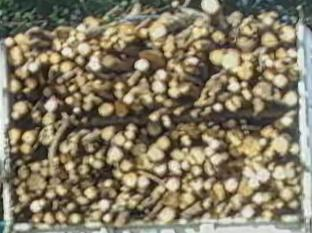medium: (253, 80, 277, 100), (240, 136, 261, 157), (222, 49, 241, 71), (140, 50, 165, 65), (238, 61, 256, 80), (39, 124, 54, 146), (150, 23, 168, 40), (190, 147, 206, 164), (238, 37, 257, 51), (201, 0, 221, 13), (22, 128, 38, 144), (179, 193, 195, 209), (149, 145, 166, 160), (163, 192, 180, 207), (274, 137, 288, 155), (213, 182, 226, 201), (164, 35, 175, 57), (98, 102, 114, 117), (28, 175, 44, 190), (280, 27, 297, 41), (263, 32, 280, 46), (278, 187, 293, 202), (7, 128, 21, 144), (157, 208, 174, 221), (122, 172, 136, 187), (240, 205, 255, 219), (134, 59, 150, 72), (109, 147, 123, 161), (229, 12, 243, 26), (13, 102, 28, 115), (168, 161, 183, 174), (168, 86, 182, 99), (152, 81, 167, 93), (115, 102, 127, 117), (224, 180, 237, 193), (113, 132, 125, 146), (156, 137, 170, 149), (171, 149, 185, 161), (42, 113, 55, 125), (102, 127, 114, 140), (43, 212, 55, 225), (133, 144, 146, 156), (167, 179, 180, 191), (257, 171, 269, 184), (31, 201, 45, 212), (44, 99, 56, 111), (137, 177, 149, 189), (60, 142, 73, 153), (103, 56, 116, 67), (149, 122, 160, 135), (155, 164, 166, 177), (61, 62, 75, 72), (68, 214, 82, 224), (78, 44, 90, 55), (89, 60, 101, 71), (84, 188, 96, 199), (56, 211, 67, 223), (155, 69, 167, 80), (120, 161, 132, 172), (18, 165, 28, 178), (25, 78, 37, 88), (62, 71, 75, 80), (32, 111, 41, 123), (51, 53, 61, 63), (75, 56, 85, 65), (57, 85, 66, 95), (43, 87, 51, 97), (54, 40, 61, 51), (123, 95, 131, 104), (63, 48, 71, 56), (77, 23, 86, 30), (77, 33, 85, 40)
small: (284, 92, 299, 107), (208, 49, 224, 63), (253, 99, 265, 115), (275, 73, 289, 86), (226, 97, 240, 110), (289, 143, 302, 156), (241, 90, 252, 103), (273, 167, 284, 180), (180, 135, 190, 149), (189, 108, 200, 120), (282, 116, 293, 128), (261, 126, 273, 137), (244, 168, 256, 179), (10, 80, 20, 93), (55, 186, 68, 196), (212, 32, 225, 42), (20, 144, 32, 154), (99, 199, 109, 211), (277, 47, 287, 59), (285, 166, 295, 178), (10, 47, 20, 58), (65, 161, 76, 171), (254, 194, 264, 205), (16, 68, 28, 77), (162, 116, 171, 128), (248, 179, 260, 188), (30, 162, 40, 172), (45, 189, 55, 199), (50, 177, 61, 186), (92, 79, 101, 90), (142, 93, 151, 104), (124, 131, 135, 140), (288, 49, 299, 58), (265, 71, 274, 82), (192, 167, 203, 176), (78, 165, 88, 174), (115, 81, 125, 90), (109, 188, 118, 198), (277, 63, 287, 72), (288, 201, 298, 210), (210, 155, 220, 164), (92, 161, 103, 169), (218, 94, 229, 102), (124, 141, 133, 150), (113, 171, 122, 180), (264, 16, 273, 25), (13, 35, 23, 43), (85, 144, 95, 152), (149, 113, 159, 121), (126, 124, 136, 132), (229, 84, 239, 92), (5, 38, 13, 47), (77, 77, 85, 86), (60, 154, 68, 163), (68, 171, 76, 180), (77, 197, 89, 203), (155, 94, 163, 103), (103, 179, 112, 187), (90, 212, 99, 220), (120, 211, 129, 219), (128, 200, 136, 209), (190, 57, 199, 65), (214, 104, 223, 112), (202, 212, 211, 220), (193, 182, 202, 190), (69, 177, 79, 184), (169, 80, 179, 87), (263, 211, 273, 218), (203, 199, 210, 209), (178, 49, 184, 60), (94, 97, 102, 105), (164, 99, 172, 107), (115, 90, 123, 98), (194, 20, 202, 28), (205, 147, 213, 155), (12, 111, 19, 120), (83, 104, 92, 111), (69, 136, 78, 143), (19, 195, 28, 202), (140, 28, 147, 37), (181, 85, 190, 92), (145, 161, 152, 170), (30, 64, 37, 72), (66, 97, 73, 105), (73, 107, 81, 114), (95, 151, 102, 159), (119, 41, 126, 49), (104, 215, 111, 223), (266, 60, 273, 68), (52, 201, 58, 210), (67, 204, 76, 210), (39, 55, 46, 62), (87, 73, 94, 80), (84, 97, 91, 104), (17, 188, 24, 195), (32, 215, 39, 222), (127, 79, 134, 86), (159, 186, 166, 193), (201, 29, 208, 36), (193, 33, 200, 40), (23, 88, 31, 94), (50, 65, 58, 71), (41, 169, 47, 177), (176, 65, 182, 73), (172, 110, 180, 116), (74, 93, 81, 99), (81, 86, 87, 93), (61, 113, 68, 119), (70, 149, 76, 156), (15, 159, 22, 165), (192, 29, 199, 35), (262, 55, 269, 61), (212, 141, 219, 147), (268, 164, 274, 171), (295, 186, 301, 193), (187, 173, 193, 180), (70, 116, 75, 124), (154, 42, 162, 47), (70, 86, 76, 92), (81, 118, 87, 124), (53, 157, 59, 163), (15, 207, 21, 213), (111, 36, 117, 42), (88, 157, 93, 164), (26, 155, 33, 160), (205, 183, 210, 190), (57, 78, 63, 83), (77, 69, 83, 74), (33, 50, 38, 56), (82, 140, 88, 145), (42, 159, 47, 165), (75, 190, 80, 196), (120, 54, 126, 59), (160, 181, 166, 186), (209, 92, 214, 98), (277, 204, 283, 209), (182, 178, 187, 184), (142, 128, 146, 135), (69, 53, 74, 58), (138, 206, 143, 211), (146, 209, 151, 214), (242, 82, 247, 87), (207, 122, 212, 127), (207, 138, 212, 143), (260, 140, 265, 145), (73, 121, 79, 125), (91, 39, 97, 43), (95, 51, 101, 55), (113, 205, 117, 211), (183, 184, 189, 188), (70, 37, 74, 42), (89, 93, 94, 97), (146, 43, 151, 47), (210, 76, 215, 80), (203, 135, 207, 140), (297, 167, 302, 171), (47, 80, 51, 84), (117, 47, 121, 51), (221, 214, 225, 218), (216, 207, 220, 211), (187, 189, 191, 193), (100, 43, 104, 46), (127, 30, 131, 33), (82, 207, 85, 211), (86, 212, 89, 216), (98, 184, 101, 187)
